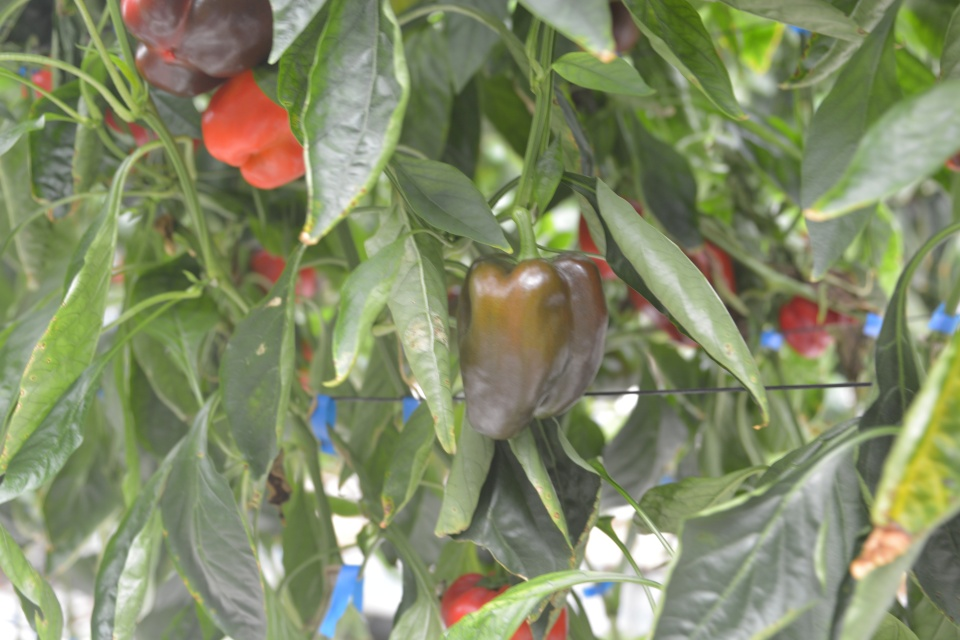fruit: (454, 247, 611, 441), (116, 0, 273, 100), (199, 69, 306, 190), (626, 238, 738, 348), (436, 570, 569, 640), (777, 270, 865, 359), (576, 194, 644, 279)
pedicle: (477, 573, 520, 589)
